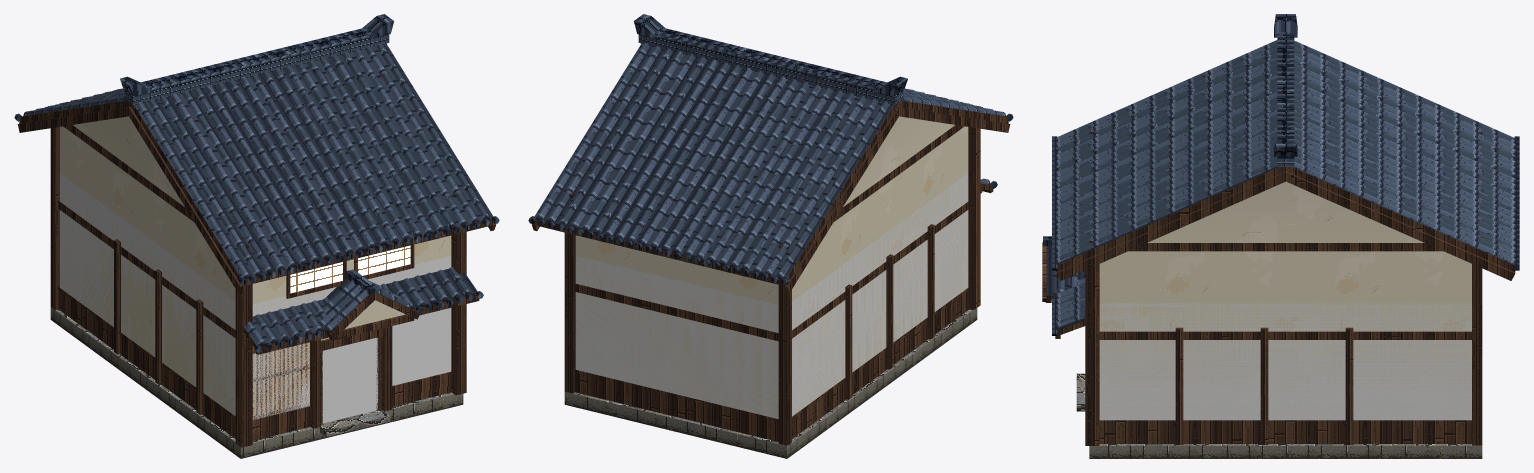
File: JP_Row_House_A_F.glb
The picture shows the model from 3 angles, left to right: view 1: azimuth 30°, elevation 25°; view 2: azimuth 150°, elevation 25°; view 3: azimuth 270°, elevation 25°; orthographic projection. The views are drawn at different scales.
Visible parts, largest first — view 1: JP_Row_House_A_F, COL_JP_Row_House_A_F; view 2: JP_Row_House_A_F, COL_JP_Row_House_A_F; view 3: JP_Row_House_A_F, COL_JP_Row_House_A_F.
Part boxes in pixels (bbox=[...]): JP_Row_House_A_F: bbox=[14, 14, 499, 458]; COL_JP_Row_House_A_F: bbox=[59, 173, 451, 423]; JP_Row_House_A_F: bbox=[528, 14, 1013, 458]; COL_JP_Row_House_A_F: bbox=[575, 173, 968, 418]; JP_Row_House_A_F: bbox=[1042, 14, 1519, 458]; COL_JP_Row_House_A_F: bbox=[1099, 302, 1471, 420].
Size of the model in its own units: 7.42 by 8.36 by 11.23.
12 materials, 12 textured.
